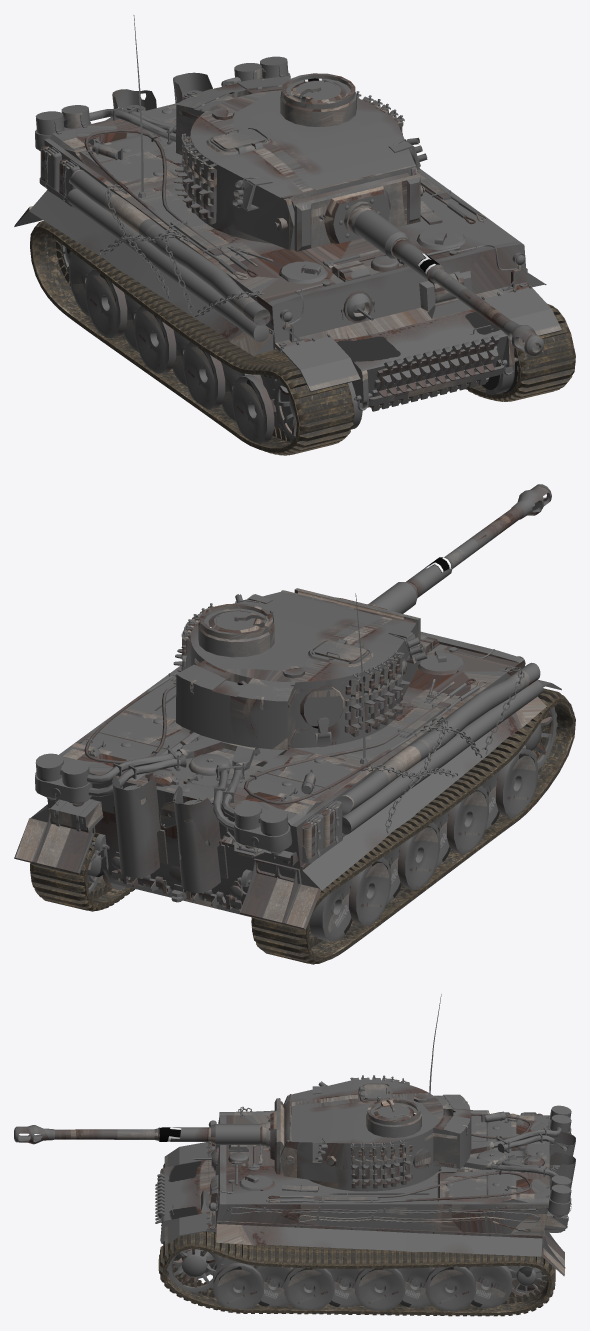
Rendered from Tank.fbx.
3 renders of one model, top to bottom at view 1: azimuth 30°, elevation 25°; view 2: azimuth 150°, elevation 25°; view 3: azimuth 270°, elevation 25°, orthographic. The views are drawn at different scales.
Parts seen in each view (by area): view 1: tiger_hull, tiger_turret; view 2: tiger_hull, tiger_turret; view 3: tiger_hull, tiger_turret.
Boxes of the visible parts, x1,y1,x2,y2 form: tiger_hull: (14, 15, 575, 455); tiger_turret: (173, 73, 544, 356); tiger_hull: (14, 593, 575, 964); tiger_turret: (173, 484, 551, 749); tiger_hull: (155, 994, 575, 1316); tiger_turret: (14, 1075, 471, 1191).
Bounding box in the file's own units: 372 × 394 × 843.
